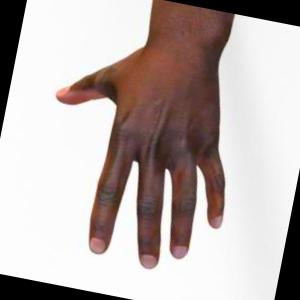paper: (57, 0, 233, 268)
